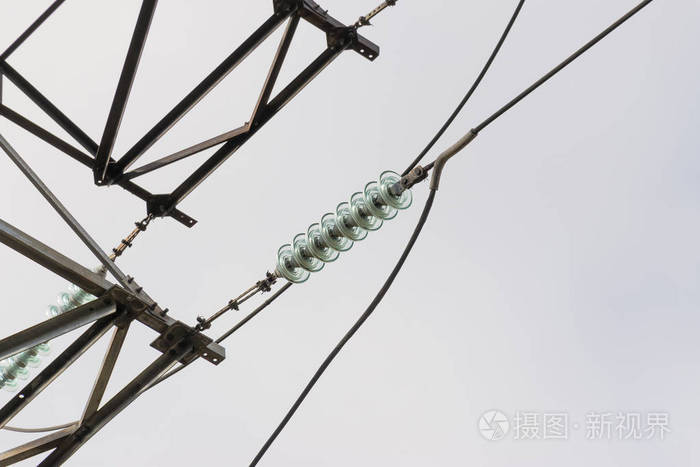insulator: (274, 170, 414, 287), (2, 283, 86, 394)
